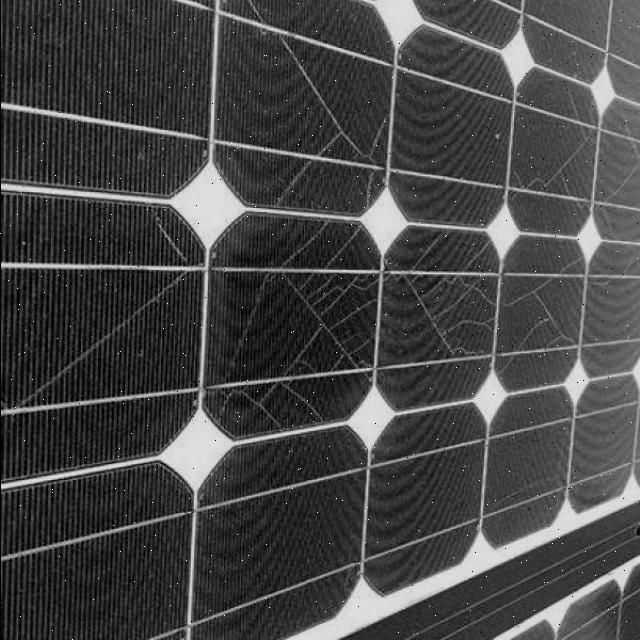Structural Damage: (15, 270, 191, 411), (260, 63, 400, 188), (402, 246, 512, 371), (277, 274, 379, 379), (496, 278, 579, 368), (512, 139, 609, 216), (220, 385, 282, 434), (605, 142, 640, 210), (282, 222, 331, 269), (151, 214, 191, 269), (272, 158, 315, 208), (280, 380, 327, 425), (322, 225, 364, 273), (423, 276, 465, 319), (410, 234, 443, 273), (461, 241, 492, 273), (558, 256, 586, 275), (496, 355, 517, 378), (249, 0, 266, 26), (363, 173, 375, 208)
